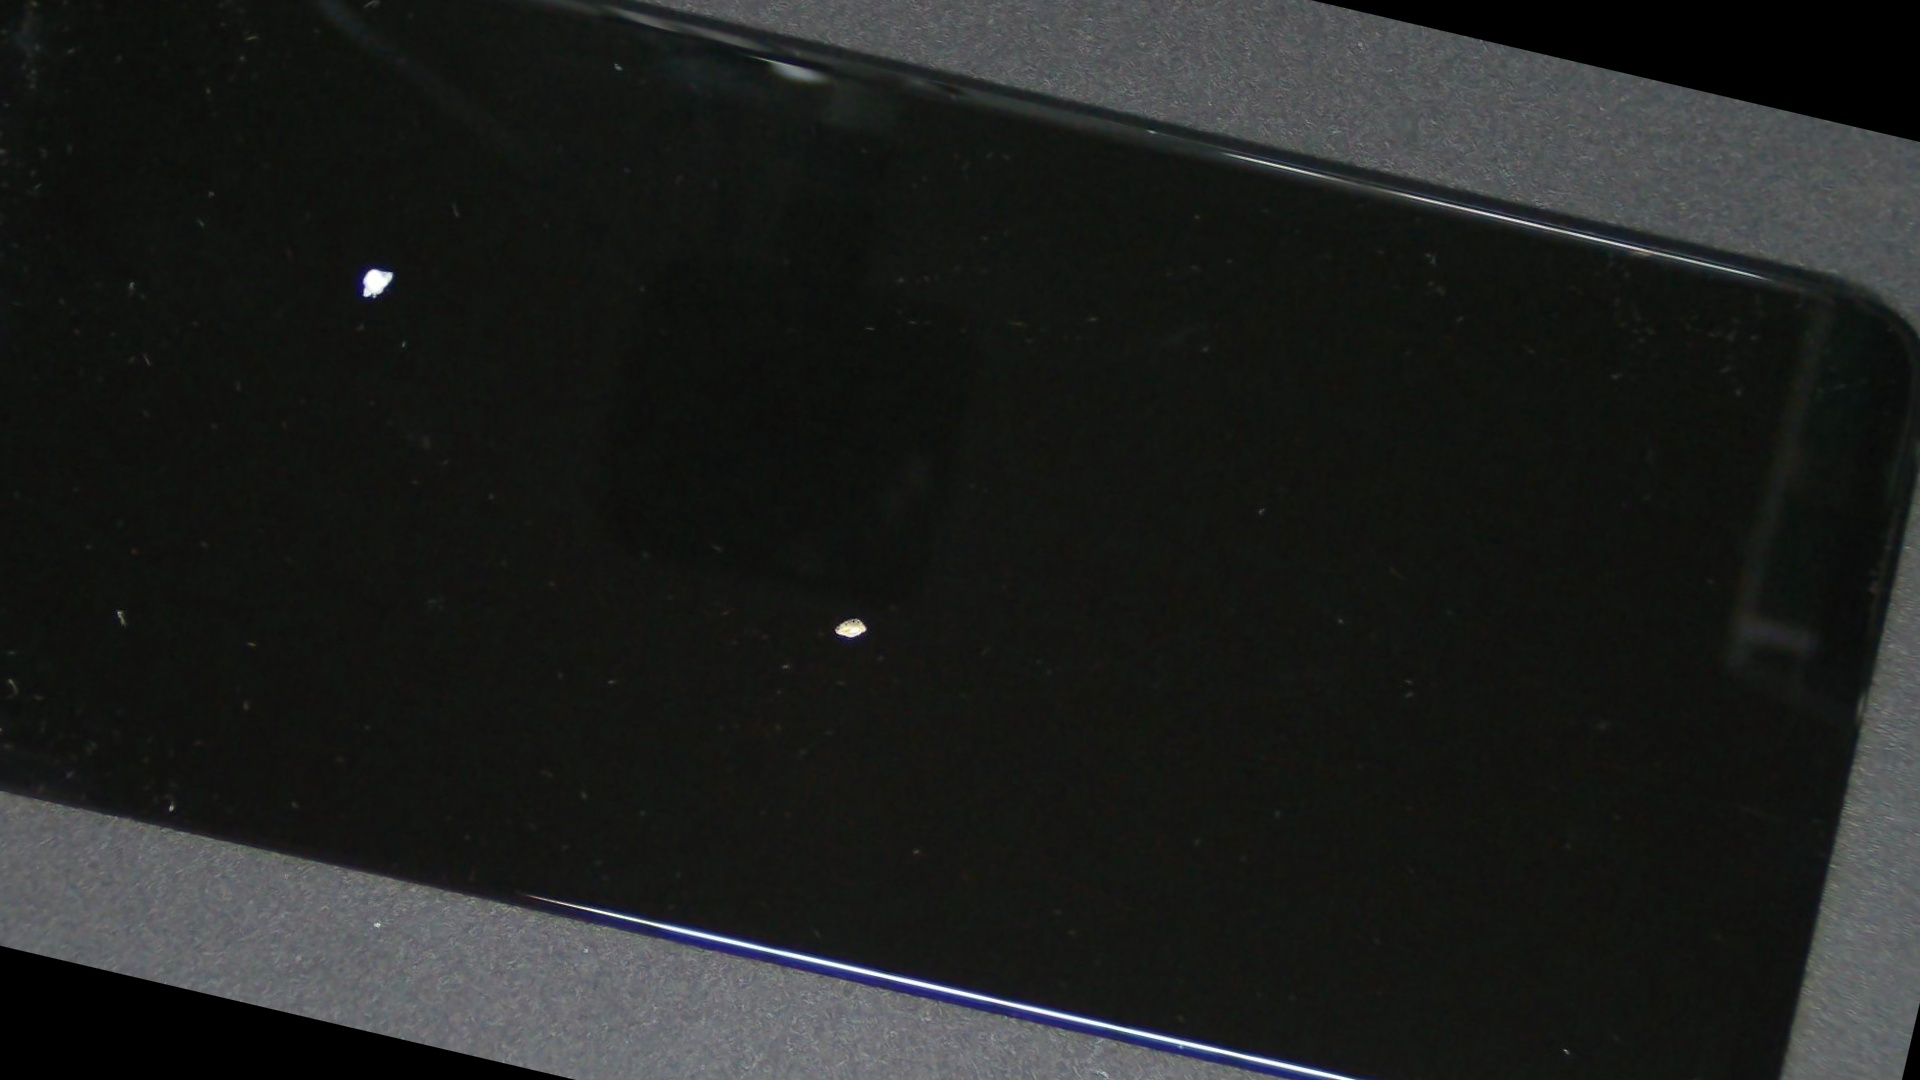oil: (232, 146, 1484, 1080), (44, 0, 703, 563)
